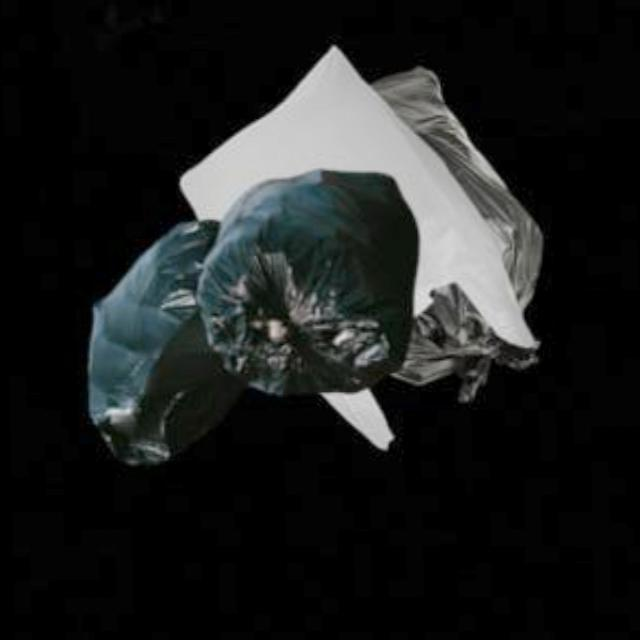Single-layer Plastic: (180, 46, 538, 349), (196, 171, 418, 394), (372, 68, 542, 317), (89, 221, 245, 465), (392, 282, 538, 402)
